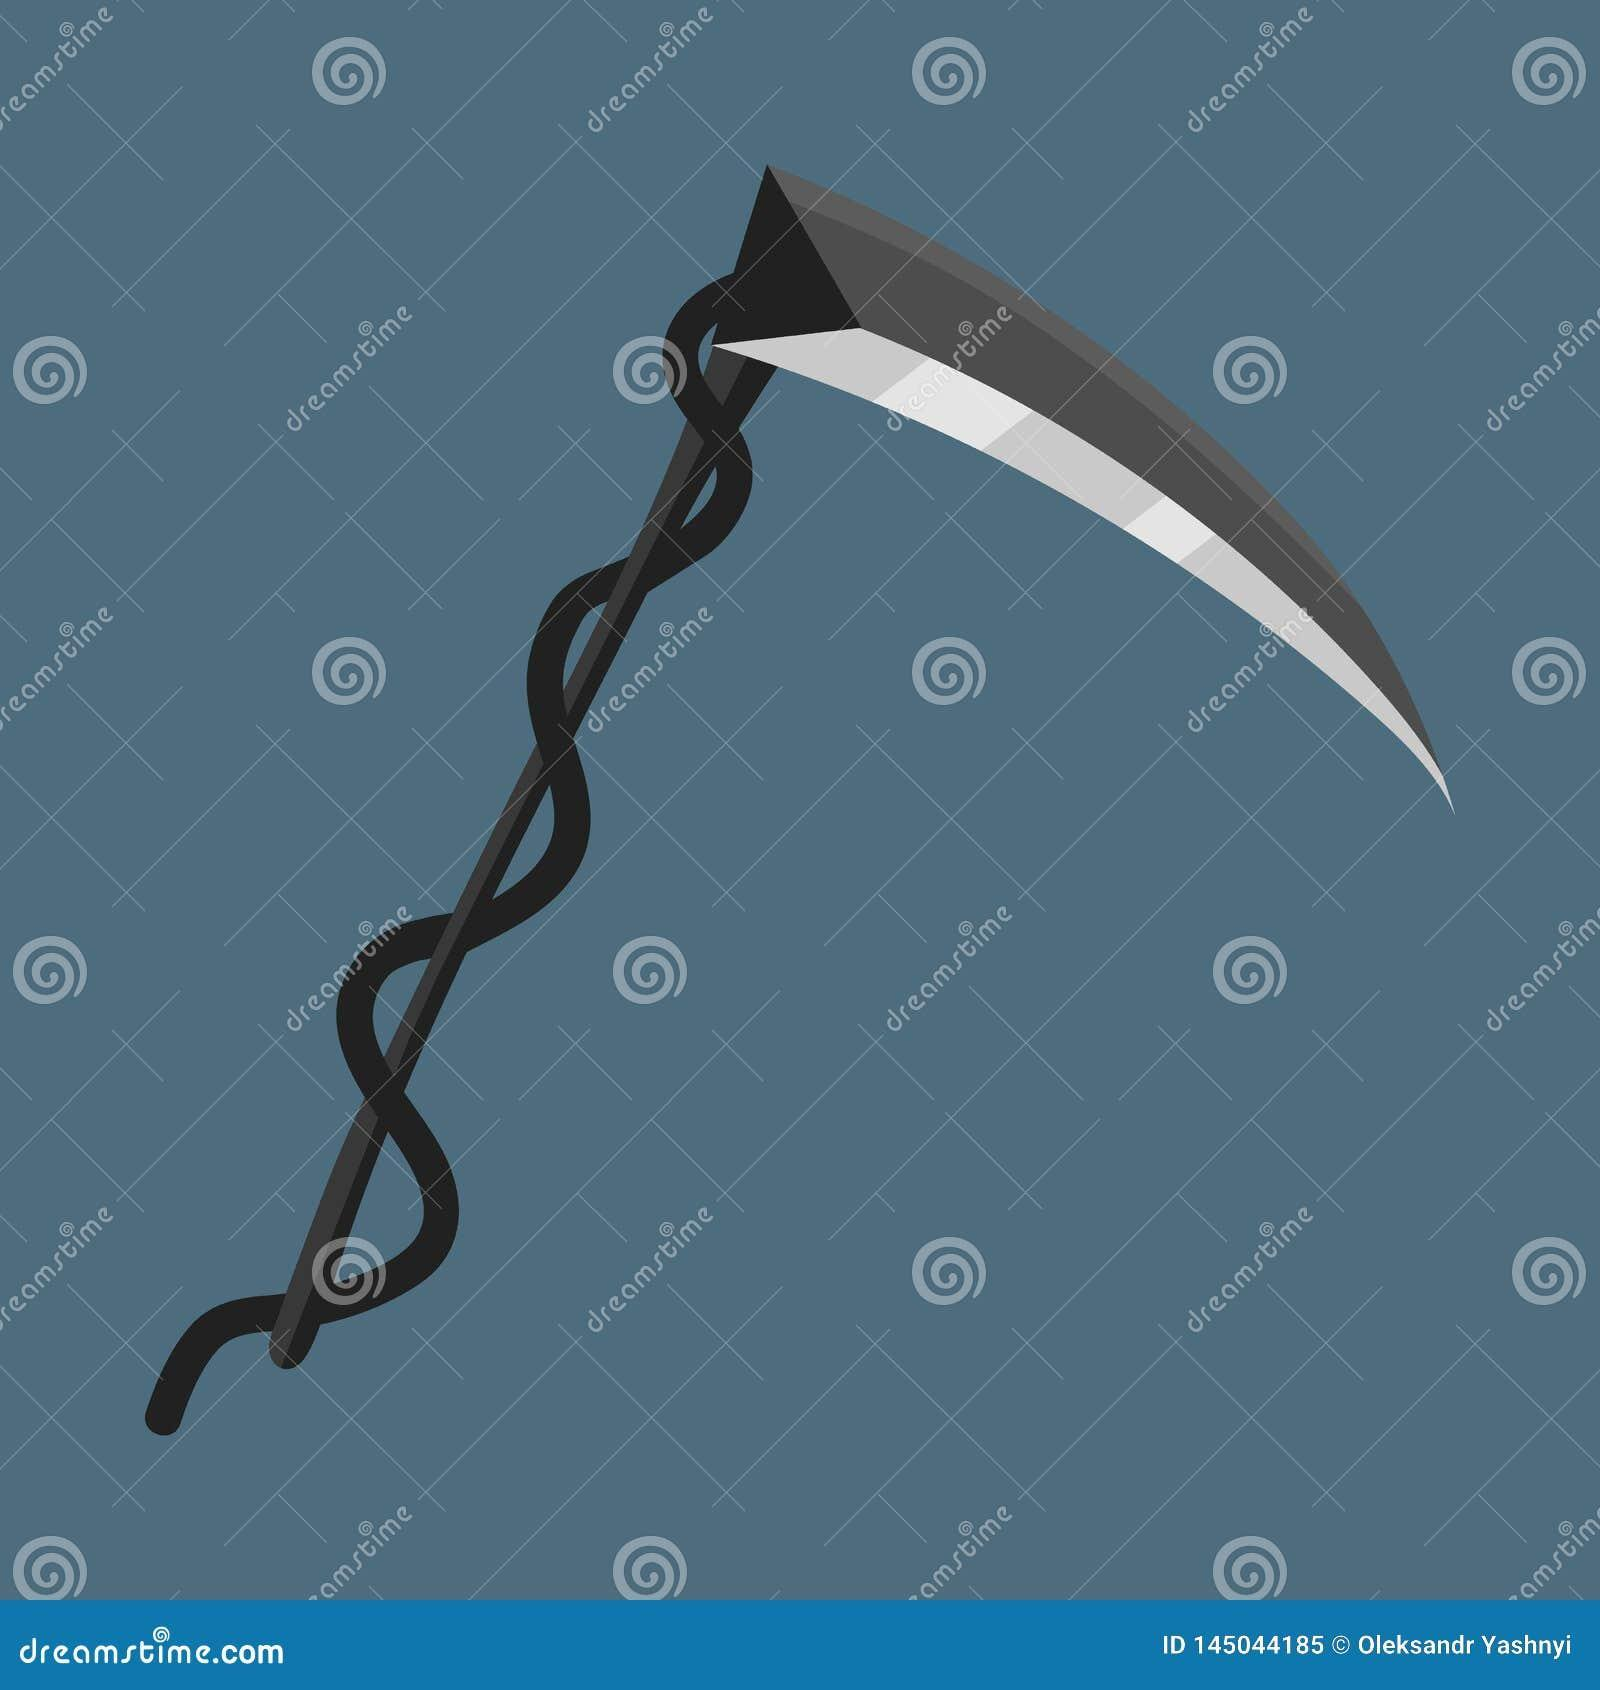foice: (256, 168, 1445, 1374)
